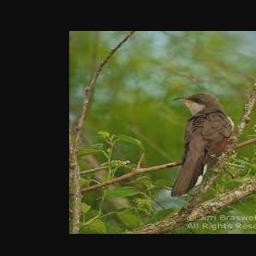Cuckoo: (170, 93, 235, 197)
